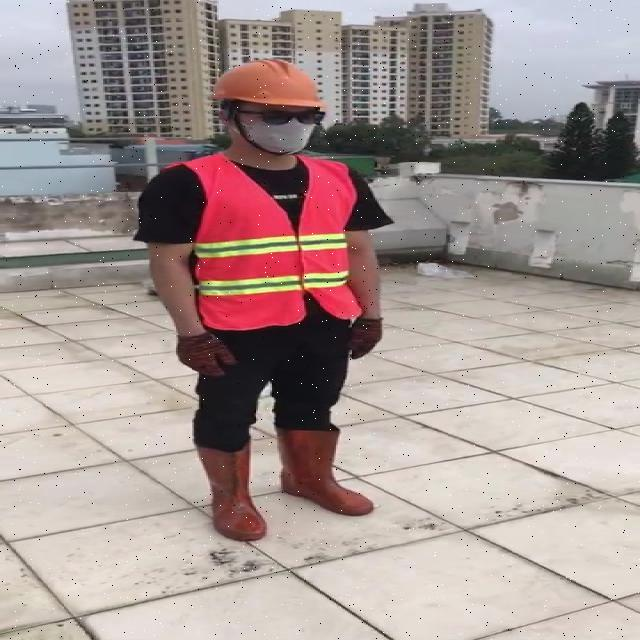Hard_hat: (206, 54, 338, 120)
Vest: (189, 149, 358, 328)
